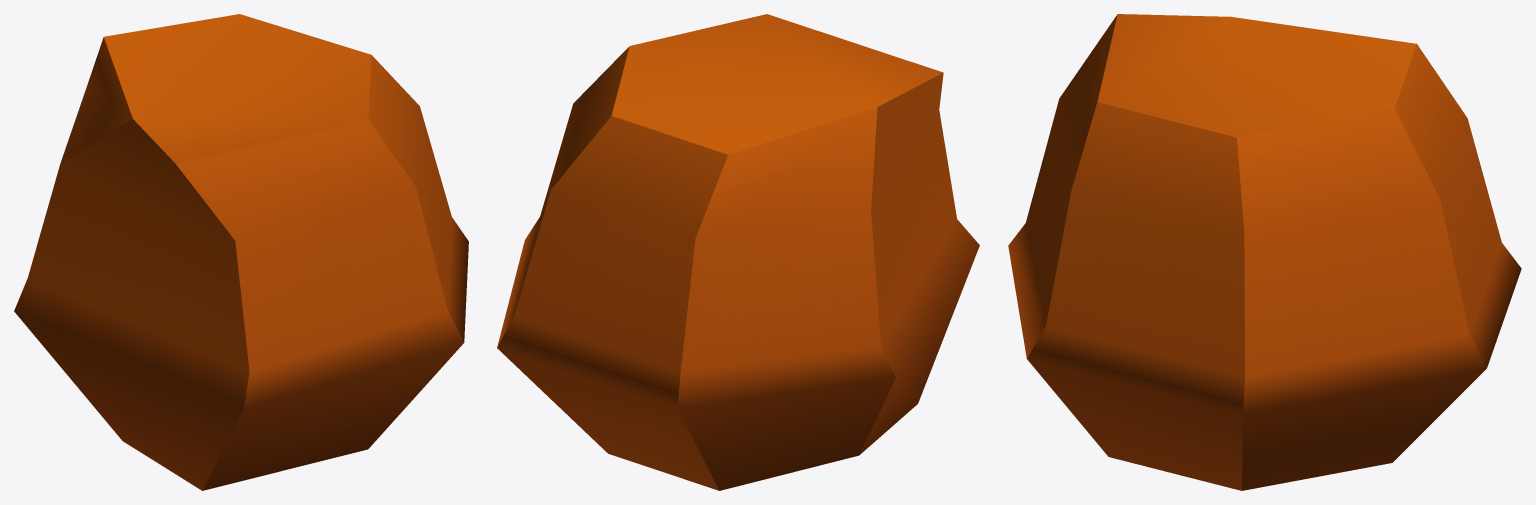
The model's file is Desert_RoundRock01.fbx.
3 renders of one model, left to right at view 1: azimuth 30°, elevation 25°; view 2: azimuth 150°, elevation 25°; view 3: azimuth 270°, elevation 25°, orthographic. The views are drawn at different scales.
Parts seen in each view (by area): view 1: Desert_RoundRock01:pCylinder1; view 2: Desert_RoundRock01:pCylinder1; view 3: Desert_RoundRock01:pCylinder1.
Boxes of the visible parts, x1,y1,x2,y2 form: Desert_RoundRock01:pCylinder1: [14, 14, 468, 490]; Desert_RoundRock01:pCylinder1: [497, 14, 979, 490]; Desert_RoundRock01:pCylinder1: [1008, 14, 1521, 490].
Bounding box in the file's own units: 2.07 × 1.64 × 2.13.
1 material, 1 textured.
